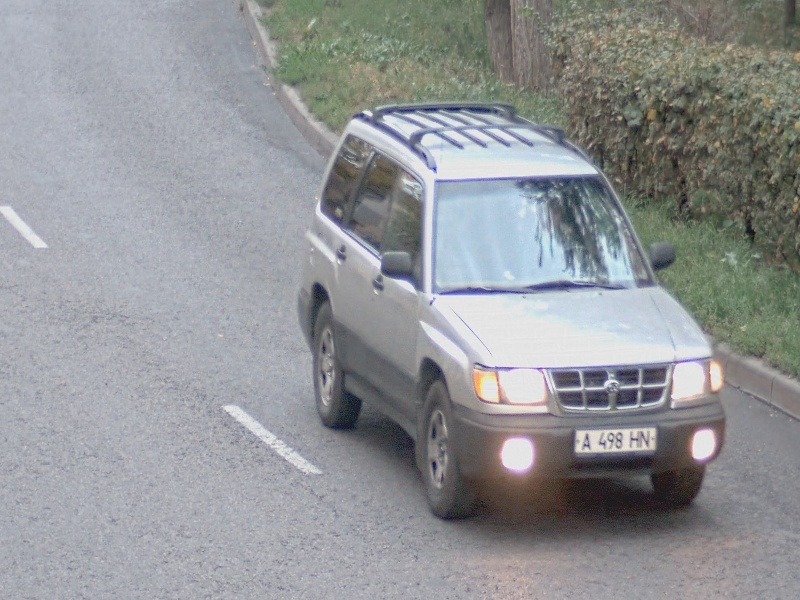plate: (572, 423, 661, 459)
